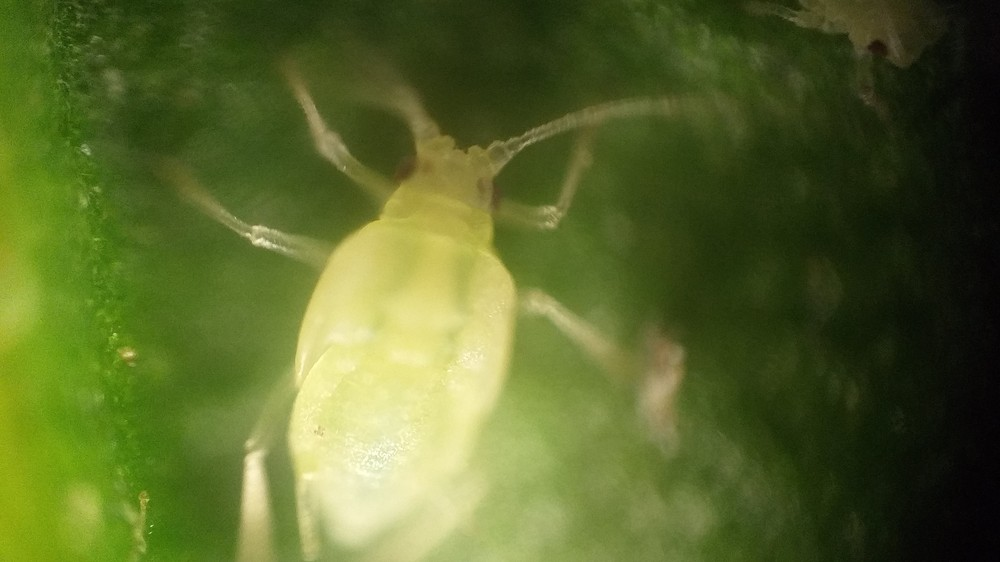Pulgon: (164, 43, 689, 550)
